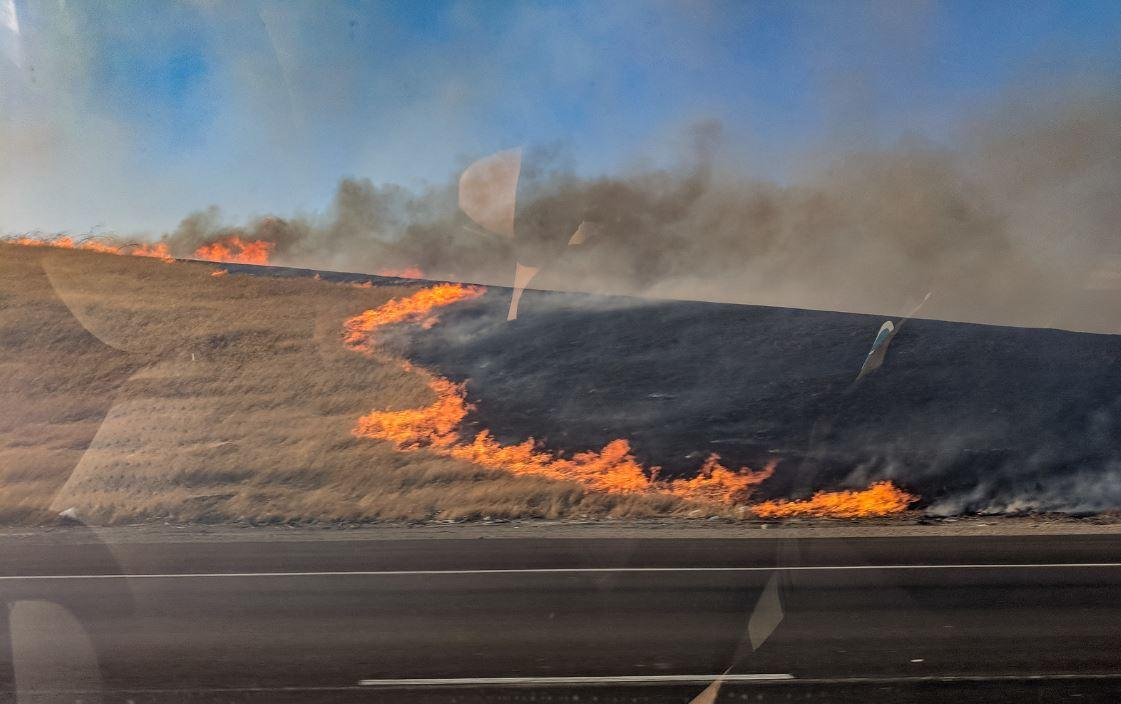fire: (349, 262, 906, 520), (8, 222, 278, 282)
